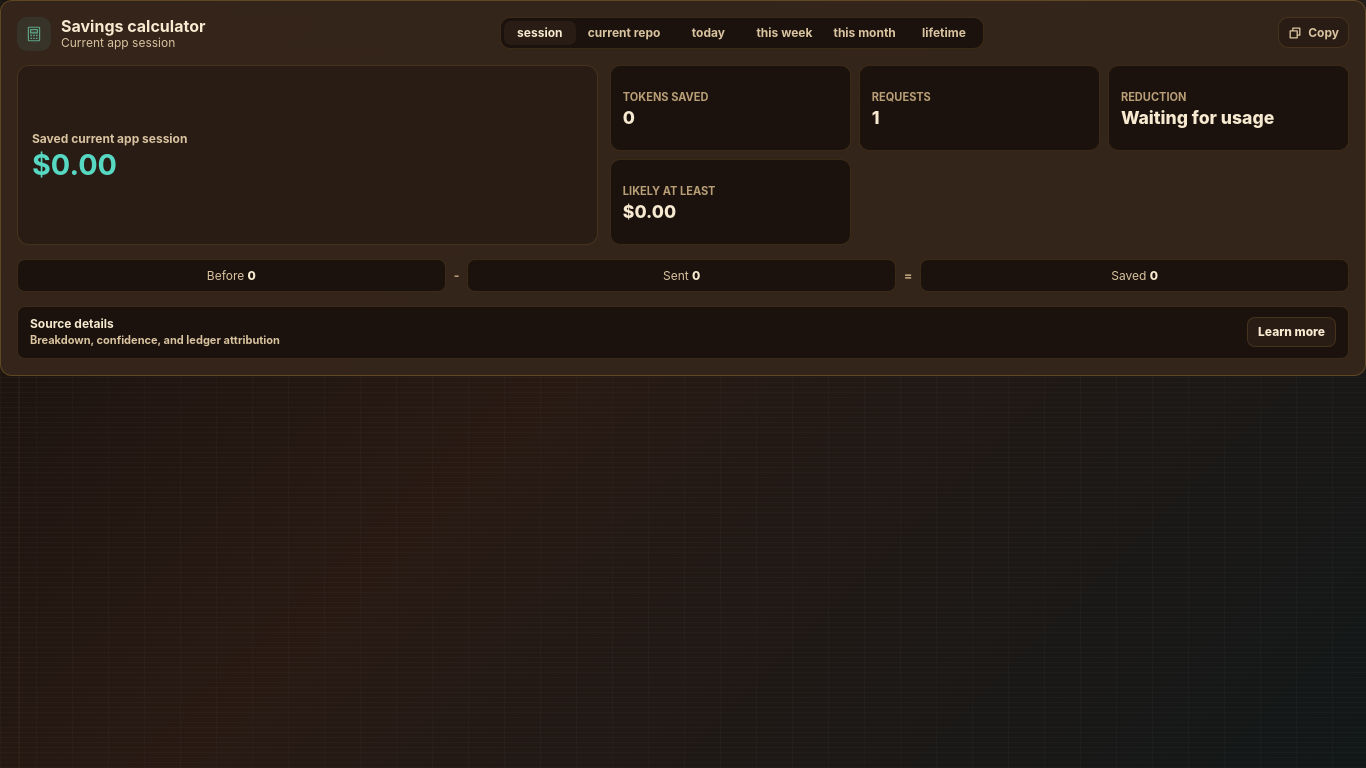
Test: SavingsCalculatorCard › reports an unavailable clipboard without throwing
This screenshot has width=1366, height=768.
What coordinates should you click on to do the following:
click the button titled "Copy savings summary"
I would click on:
 (1314, 32)
Its box is [1278,17,1349,48].
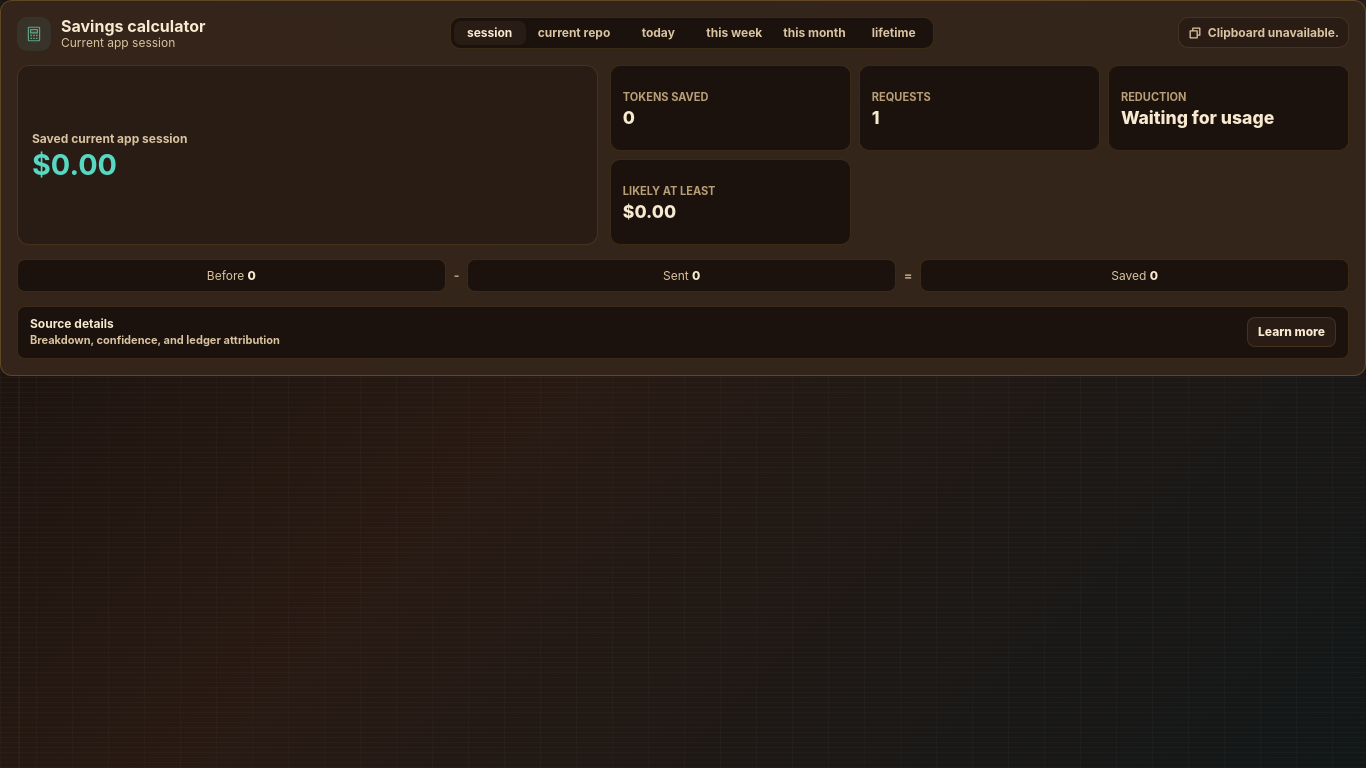
Expected: the text "Clipboard unavailable." is shown, [1208,26,1339,38]
